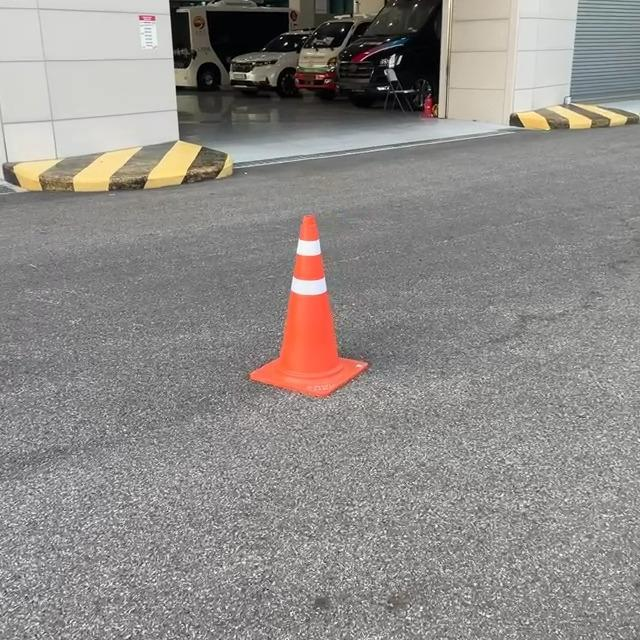fallen_object: (215, 199, 393, 380)
